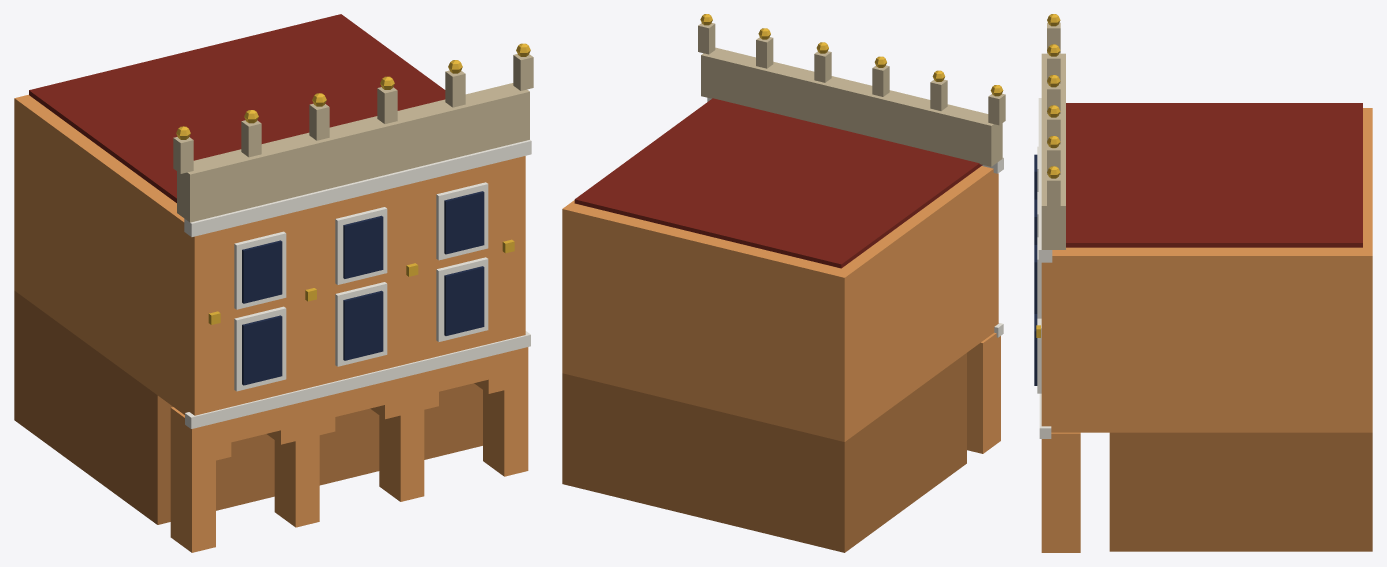
File: kamienica_4.glb
3 renders of one model, left to right at view 1: azimuth 30°, elevation 25°; view 2: azimuth 150°, elevation 25°; view 3: azimuth 270°, elevation 25°, orthographic. The views are drawn at different scales.
Parts seen in each view (by area): view 1: kamienica_4; view 2: kamienica_4; view 3: kamienica_4.
Boxes of the visible parts, x1=… form: kamienica_4: x1=14, y1=14, x2=533, y2=552; kamienica_4: x1=562, y1=14, x2=1005, y2=552; kamienica_4: x1=1034, y1=14, x2=1372, y2=552.
Bounding box in the file's own units: 3.84 × 4.39 × 3.48.
